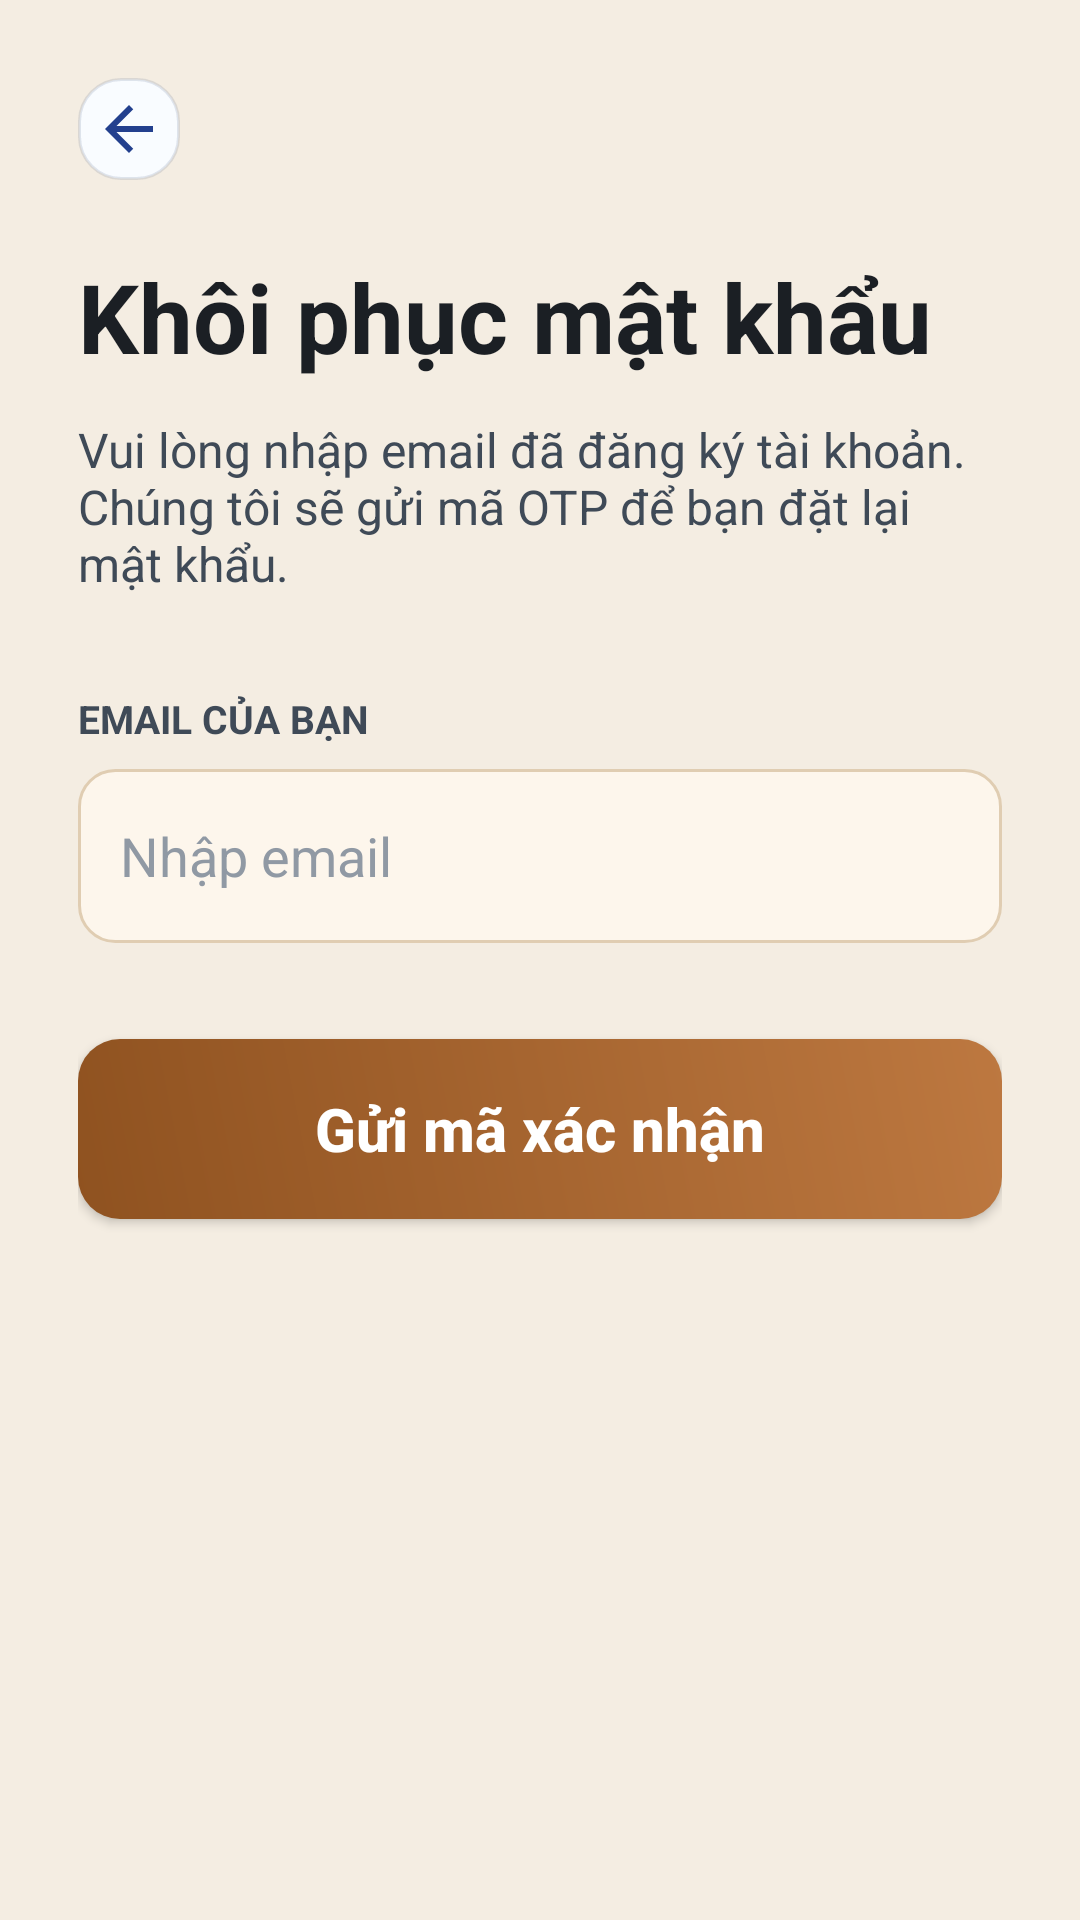

Named icons in this screenshot (1080 × 1920) and their bounding boxes, (x1, y1, x2, y2):
Quay lại: (78, 78, 180, 180)
